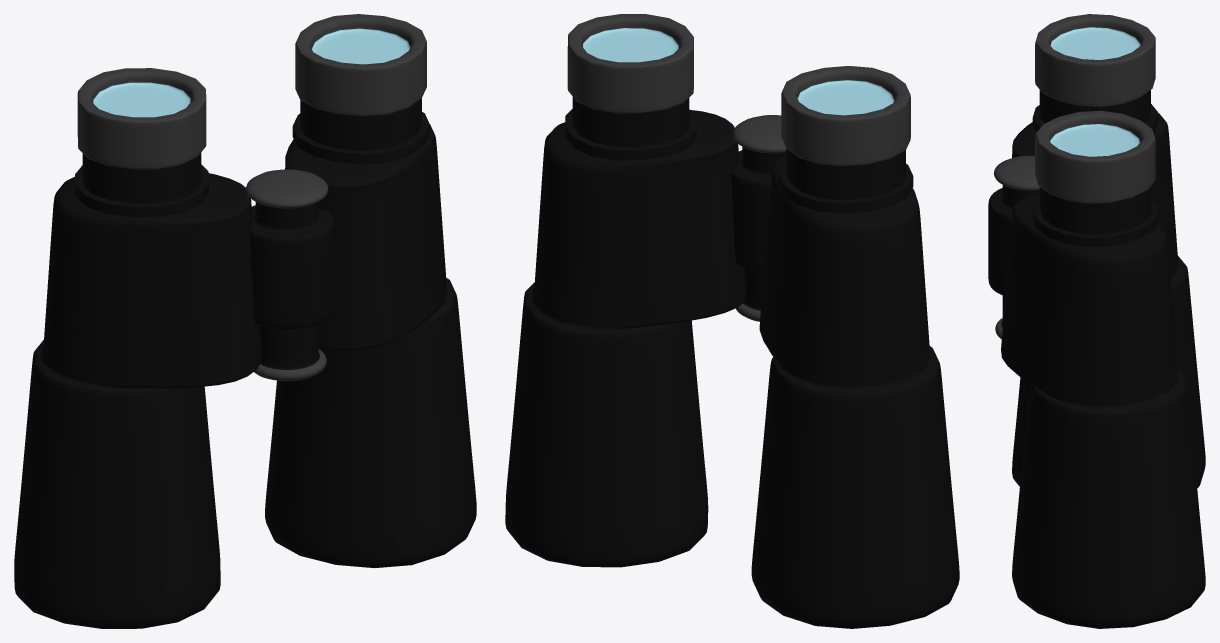
The model's file is Teropong.fbx.
3 renders of one model, left to right at view 1: azimuth 30°, elevation 25°; view 2: azimuth 150°, elevation 25°; view 3: azimuth 270°, elevation 25°, orthographic. The views are drawn at different scales.
Parts seen in each view (by area): view 1: Cube; view 2: Cube; view 3: Cube.
Boxes of the visible parts, x1,y1,x2,y2 form: Cube: (14,14,476,628); Cube: (505,14,959,628); Cube: (988,14,1205,628).
Size of the model in its own units: 374 by 405 by 178.
